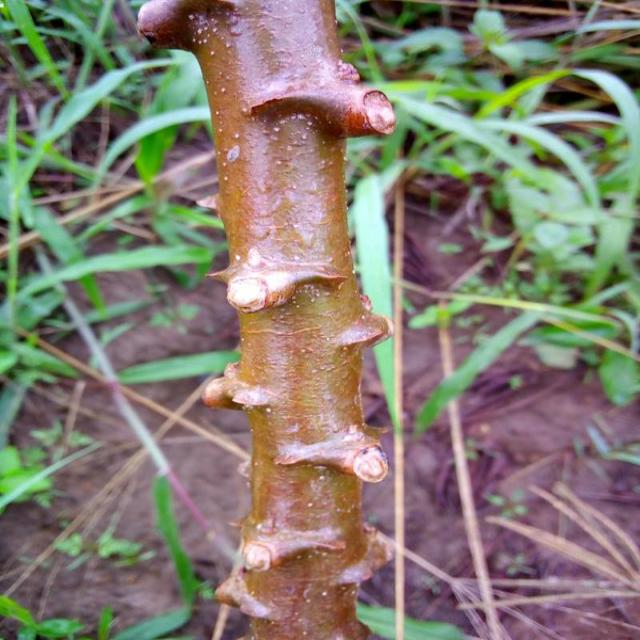cassava leaf: (134, 0, 398, 639)
